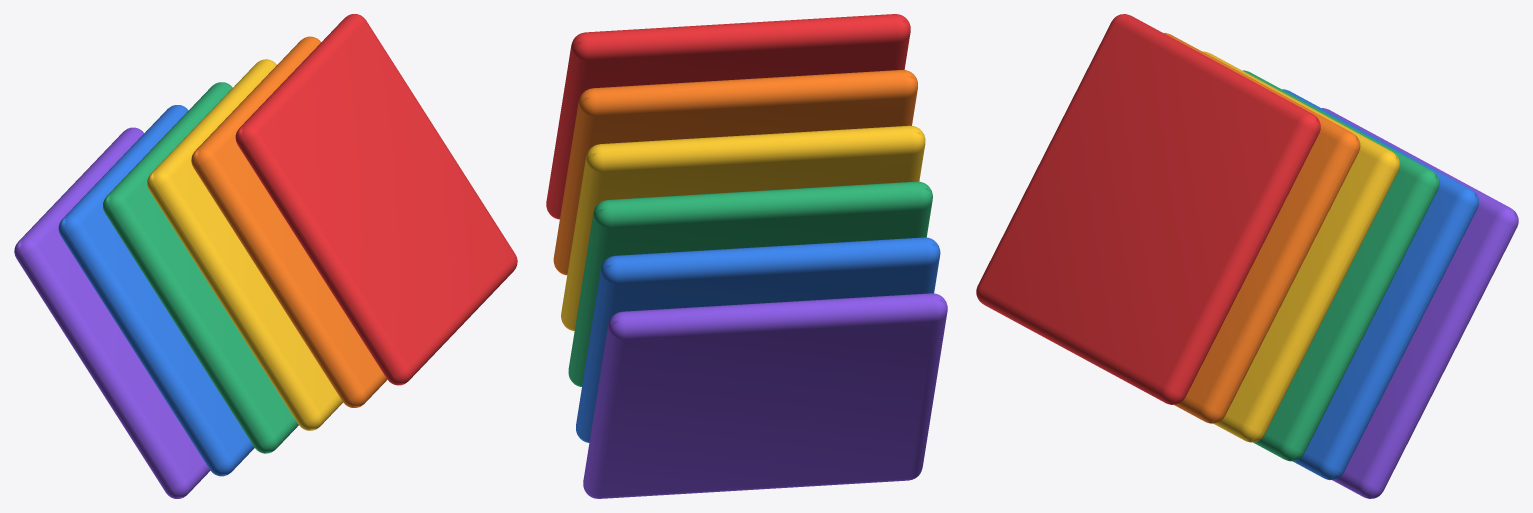
The model's file is stack.glb.
3 views of the same model, side by side, from view 1: azimuth 30°, elevation 25°; view 2: azimuth 150°, elevation 25°; view 3: azimuth 270°, elevation 25° (orthographic). The views are drawn at different scales.
Visible parts, largest first — view 1: layer0, layer2, layer4, layer3, layer5, layer1; view 2: layer5, layer3, layer4, layer2, layer0, layer1; view 3: layer0, layer1, layer3, layer2, layer5, layer4.
Part boxes in pixels (x1,y1,x2,y2): layer0: (235,14,517,385); layer2: (147,59,342,430); layer4: (58,105,254,476); layer3: (103,82,298,453); layer5: (14,127,210,498); layer1: (191,36,387,407); layer5: (583,293,947,498); layer3: (568,181,932,386); layer4: (576,237,940,442); layer2: (561,125,925,331); layer0: (546,14,910,219); layer1: (553,70,917,275); layer0: (976,14,1320,404); layer1: (1163,33,1360,423); layer3: (1243,70,1439,461); layer2: (1203,51,1399,442); layer5: (1322,108,1518,498); layer4: (1282,89,1478,479).
Bounding box in the file's own units: 2.89 × 2.48 × 3.01.
